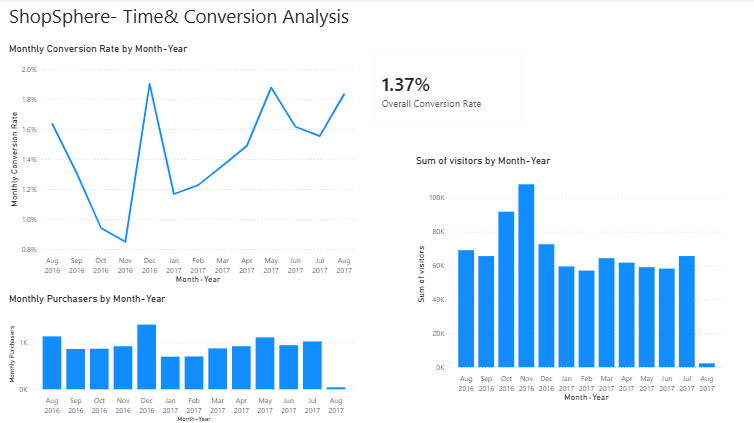

This screenshot's page, from the dashboard's own definition file:
{"tool":"powerbi","page":{"name":"Page 3","canvas":[1280,720],"ordinal":2},"visuals":[{"type":"textbox","box":[10.2,0,596,55.9],"z":0},{"type":"lineChart","fields":{"Category":["shopsphere_daily_funnel.Month-Year"],"Y":["Funnel Stages.Monthly Conversion Rate"]},"box":[10.2,74.5,596,413.1],"z":1},{"type":"clusteredColumnChart","fields":{"Category":["shopsphere_daily_funnel.Month-Year"],"Y":["Funnel Stages.Monthly Purchasers"]},"box":[10,497,596,223],"z":2},{"type":"cardVisual","fields":{"Data":["shopsphere_daily_funnel.Overall Conversion Rate"]},"box":[616.3,74.5,286.1,157.5],"z":3},{"type":"lineClusteredColumnComboChart","fields":{"Category":["shopsphere_daily_funnel.Month-Year"],"Y":["Sum(shopsphere_daily_funnel.visitors)"]},"box":[699.3,264.1,529.9,423.3],"z":4}]}

Visuals, with their boxes in screenshot pixels (x1, y1, x2, y2), scaled from the page's 1280x720 canvas onto the 754x423 screenshot:
textbox: 6,0,357,33
lineChart - shopsphere_daily_funnel.Month-Year x Funnel Stages.Monthly Conversion Rate: 6,44,357,286
clusteredColumnChart - shopsphere_daily_funnel.Month-Year x Funnel Stages.Monthly Purchasers: 6,292,357,422
cardVisual - shopsphere_daily_funnel.Overall Conversion Rate: 363,44,532,136
lineClusteredColumnComboChart - shopsphere_daily_funnel.Month-Year x Sum(shopsphere_daily_funnel.visitors): 412,155,724,404
